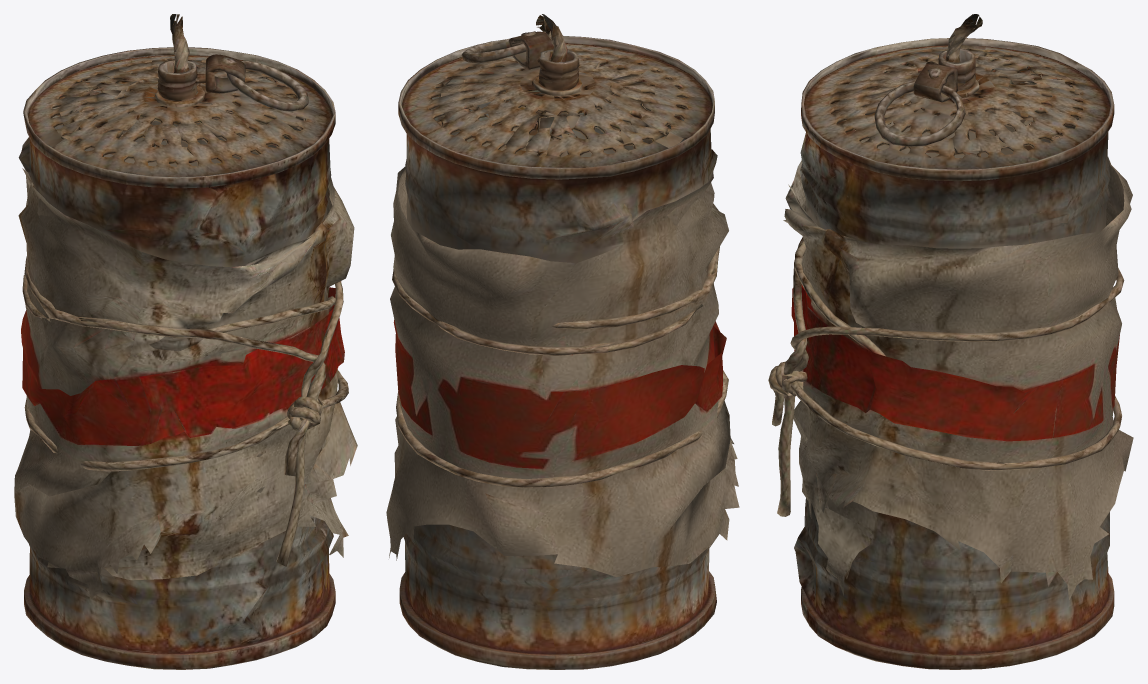
The model's file is item-lure-grenade.glb.
3 renders of one model, left to right at view 1: azimuth 30°, elevation 25°; view 2: azimuth 150°, elevation 25°; view 3: azimuth 270°, elevation 25°, orthographic.
Visible parts, largest first — view 1: item-lure-grenade; view 2: item-lure-grenade; view 3: item-lure-grenade.
Part boxes in pixels (<box>): item-lure-grenade: <box>14,14,357,669</box>; item-lure-grenade: <box>386,14,739,669</box>; item-lure-grenade: <box>768,14,1133,669</box>.
Bounding box in the file's own units: 0.0741 × 0.14 × 0.0782.
Materials: 1 (1 with a texture image).
